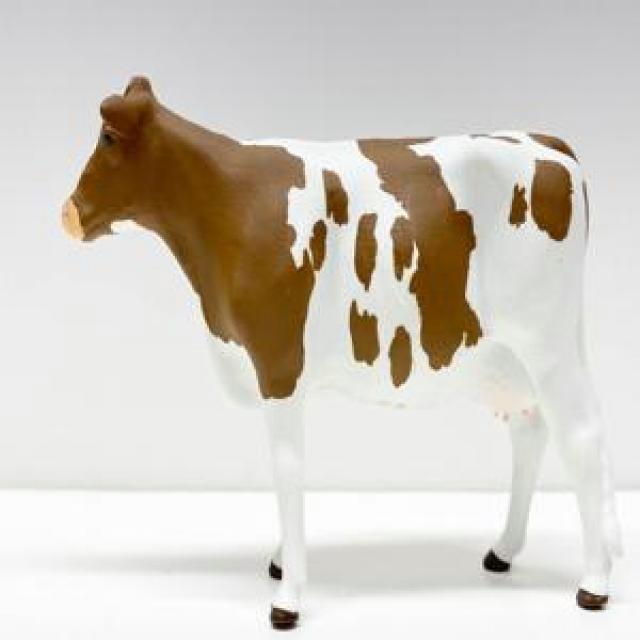cow: (62, 78, 614, 629)
